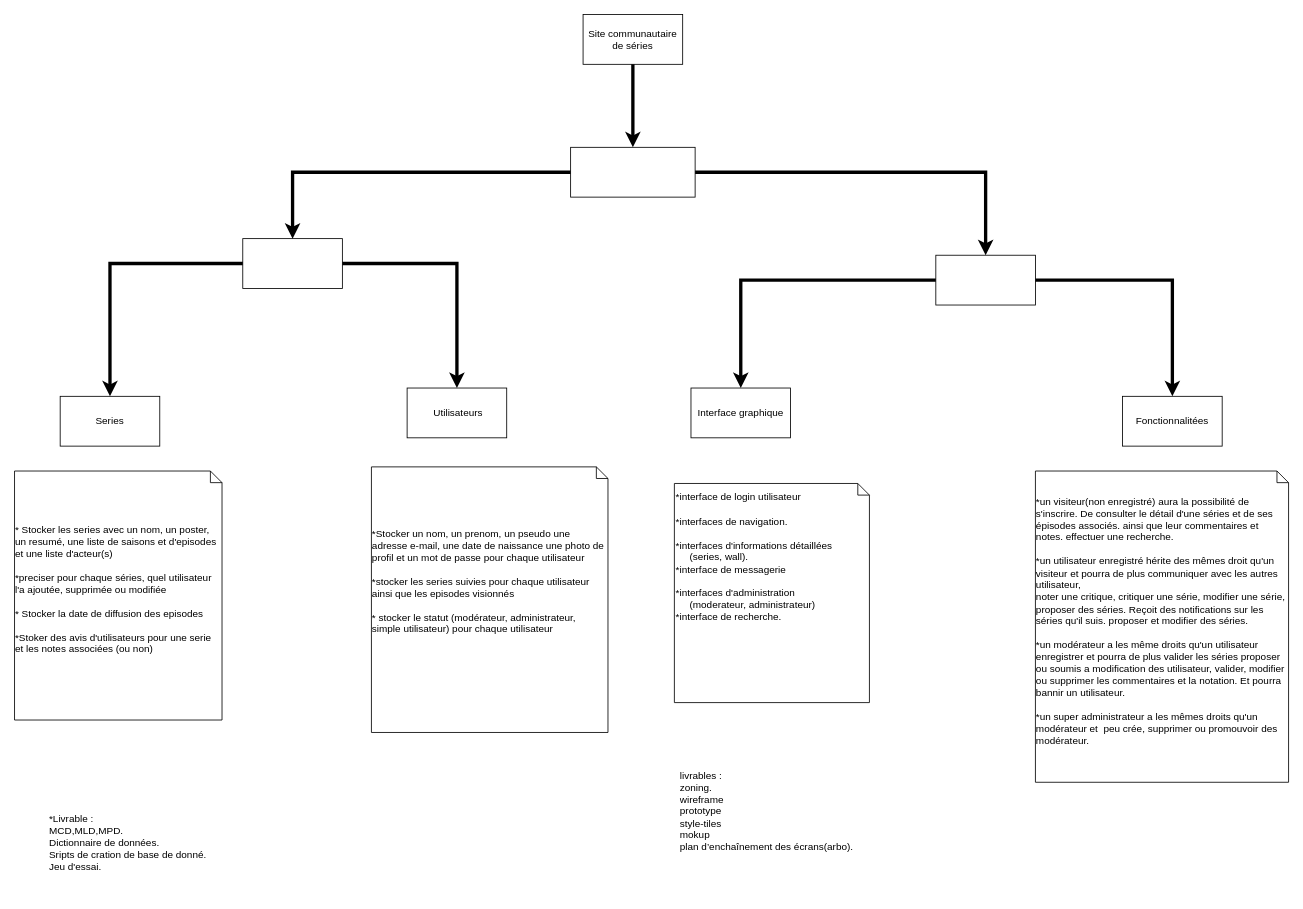
Image size: 1303x909. Some labels were removed from this diagram. Here are the shapes that lost their labels. From the top down, the centre of each, then its label:
At pixel 632 171: "Interface client-server".
At pixel 292 263: "Base de donnée".
At pixel 985 279: "Structure".
